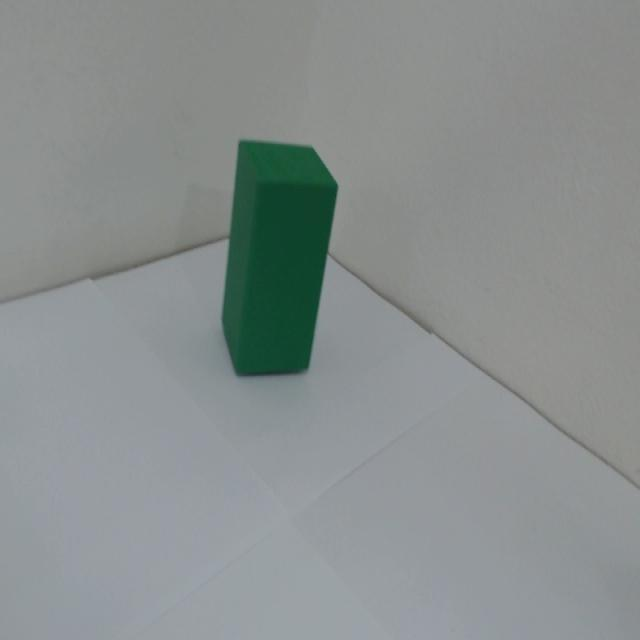cube: (227, 35, 346, 380)
